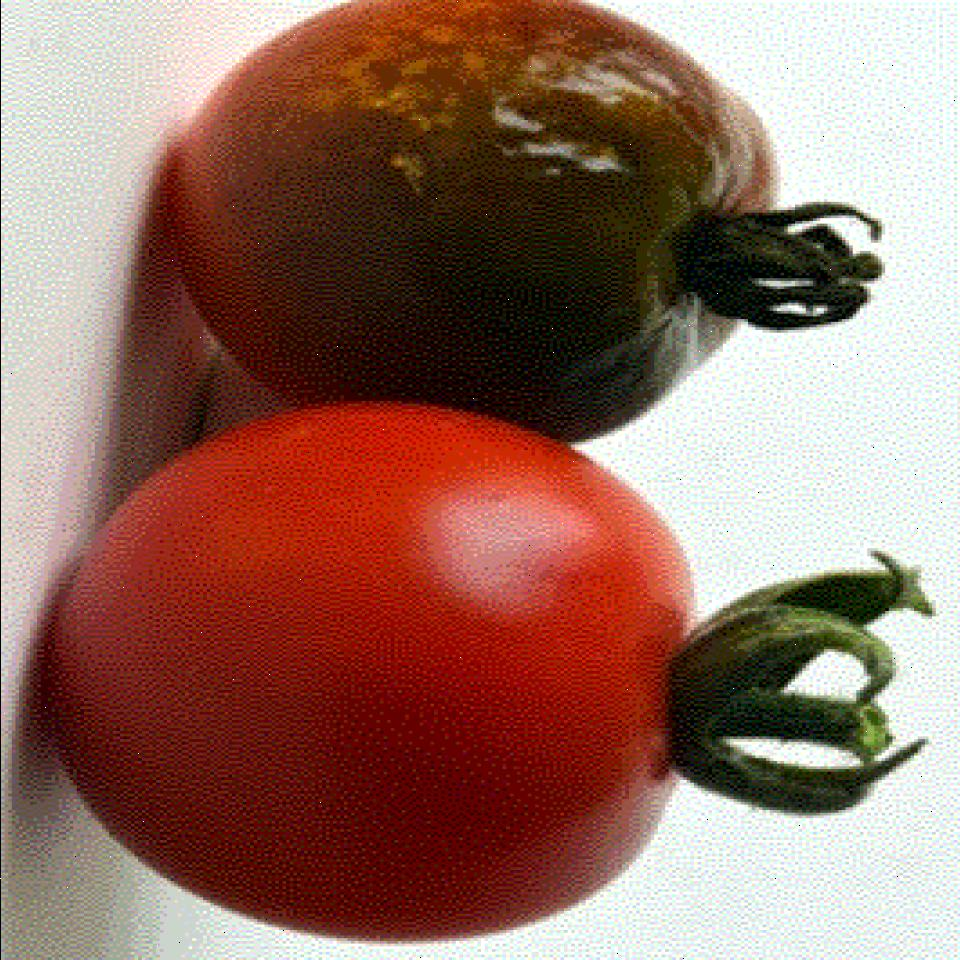Healthy: (55, 446, 728, 916)
